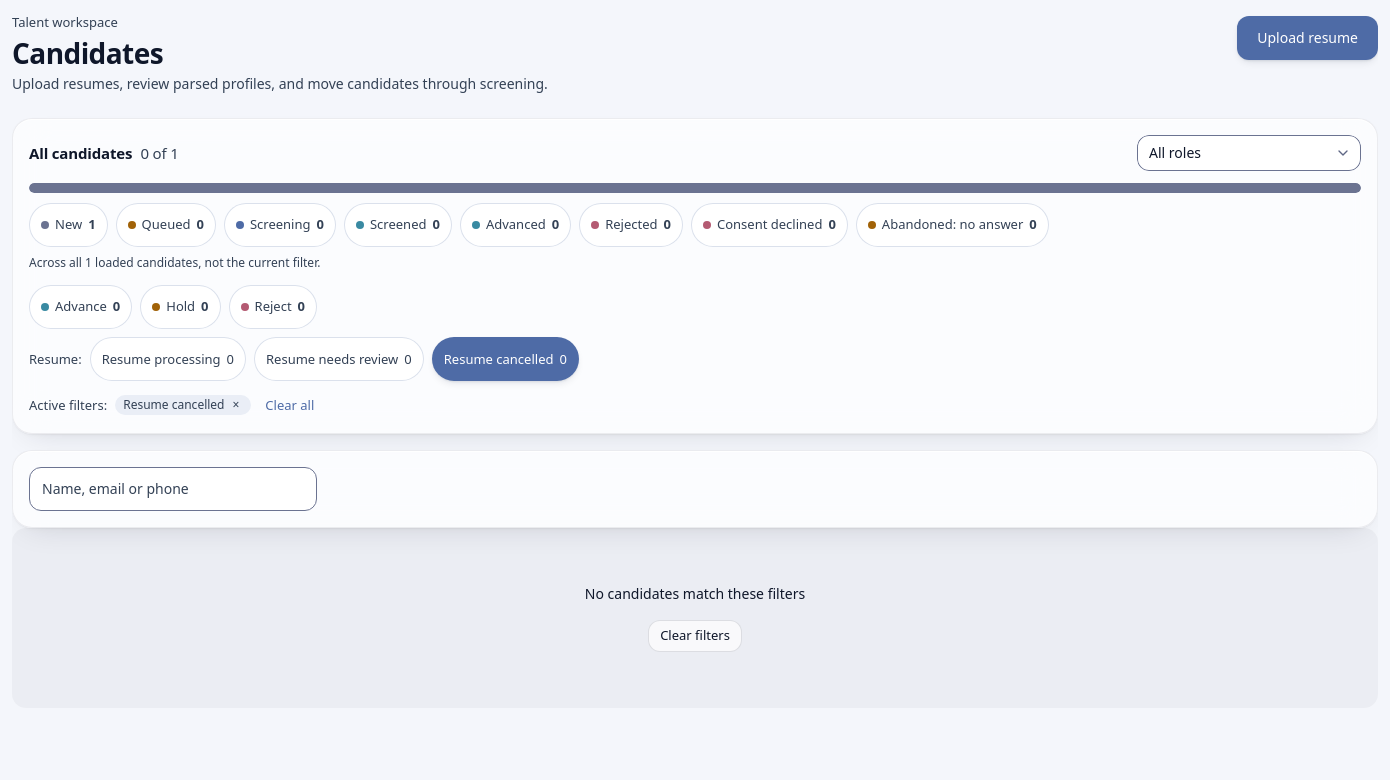
CandidatesPage — resume-review facet › keeps the facet reachable from a deep link even when nothing matches
The image size is (1390, 780).
Check: the text "No candidates match these filters" is shown, box [585, 584, 805, 604]
Click the button "Clear filters": (695,636) [648, 620, 742, 652]
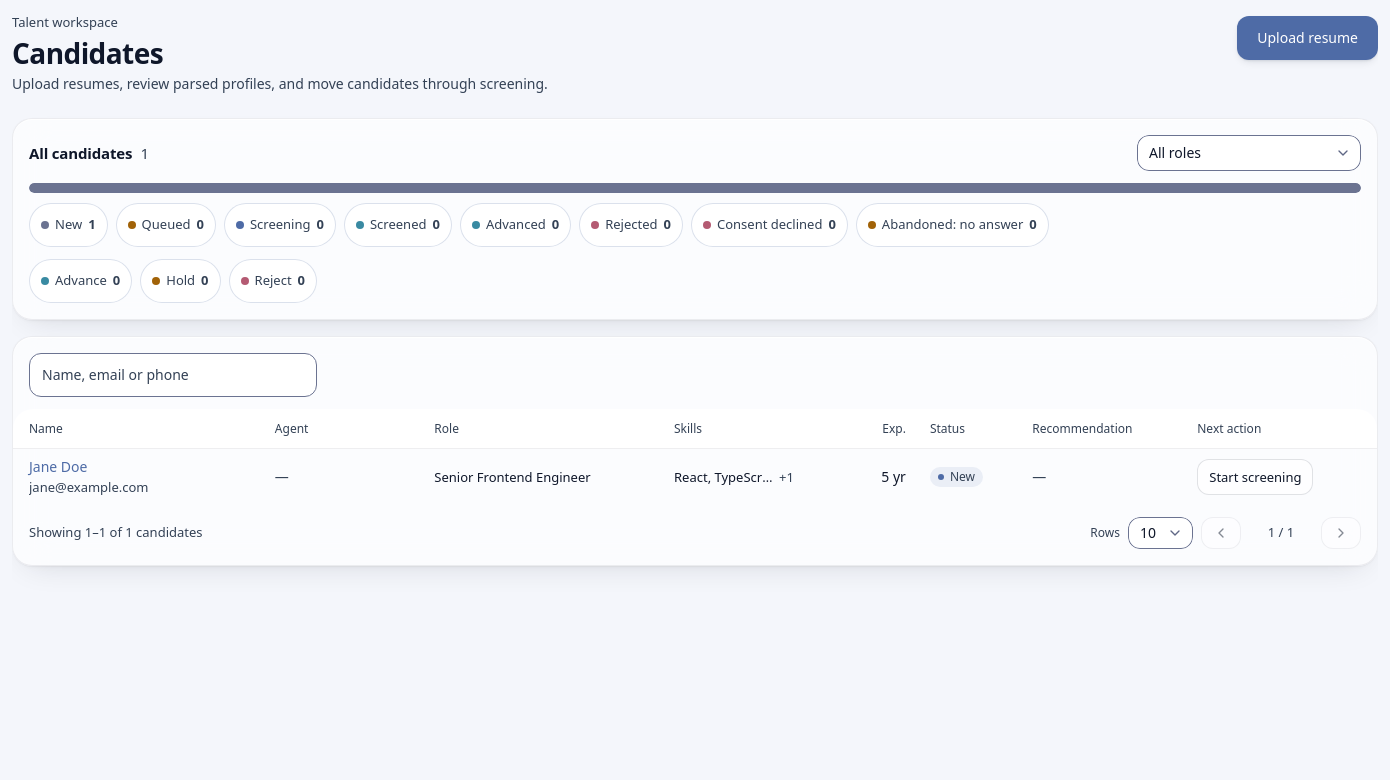
Check: the link "Jane Doe" is shown, box [29, 457, 88, 476]
